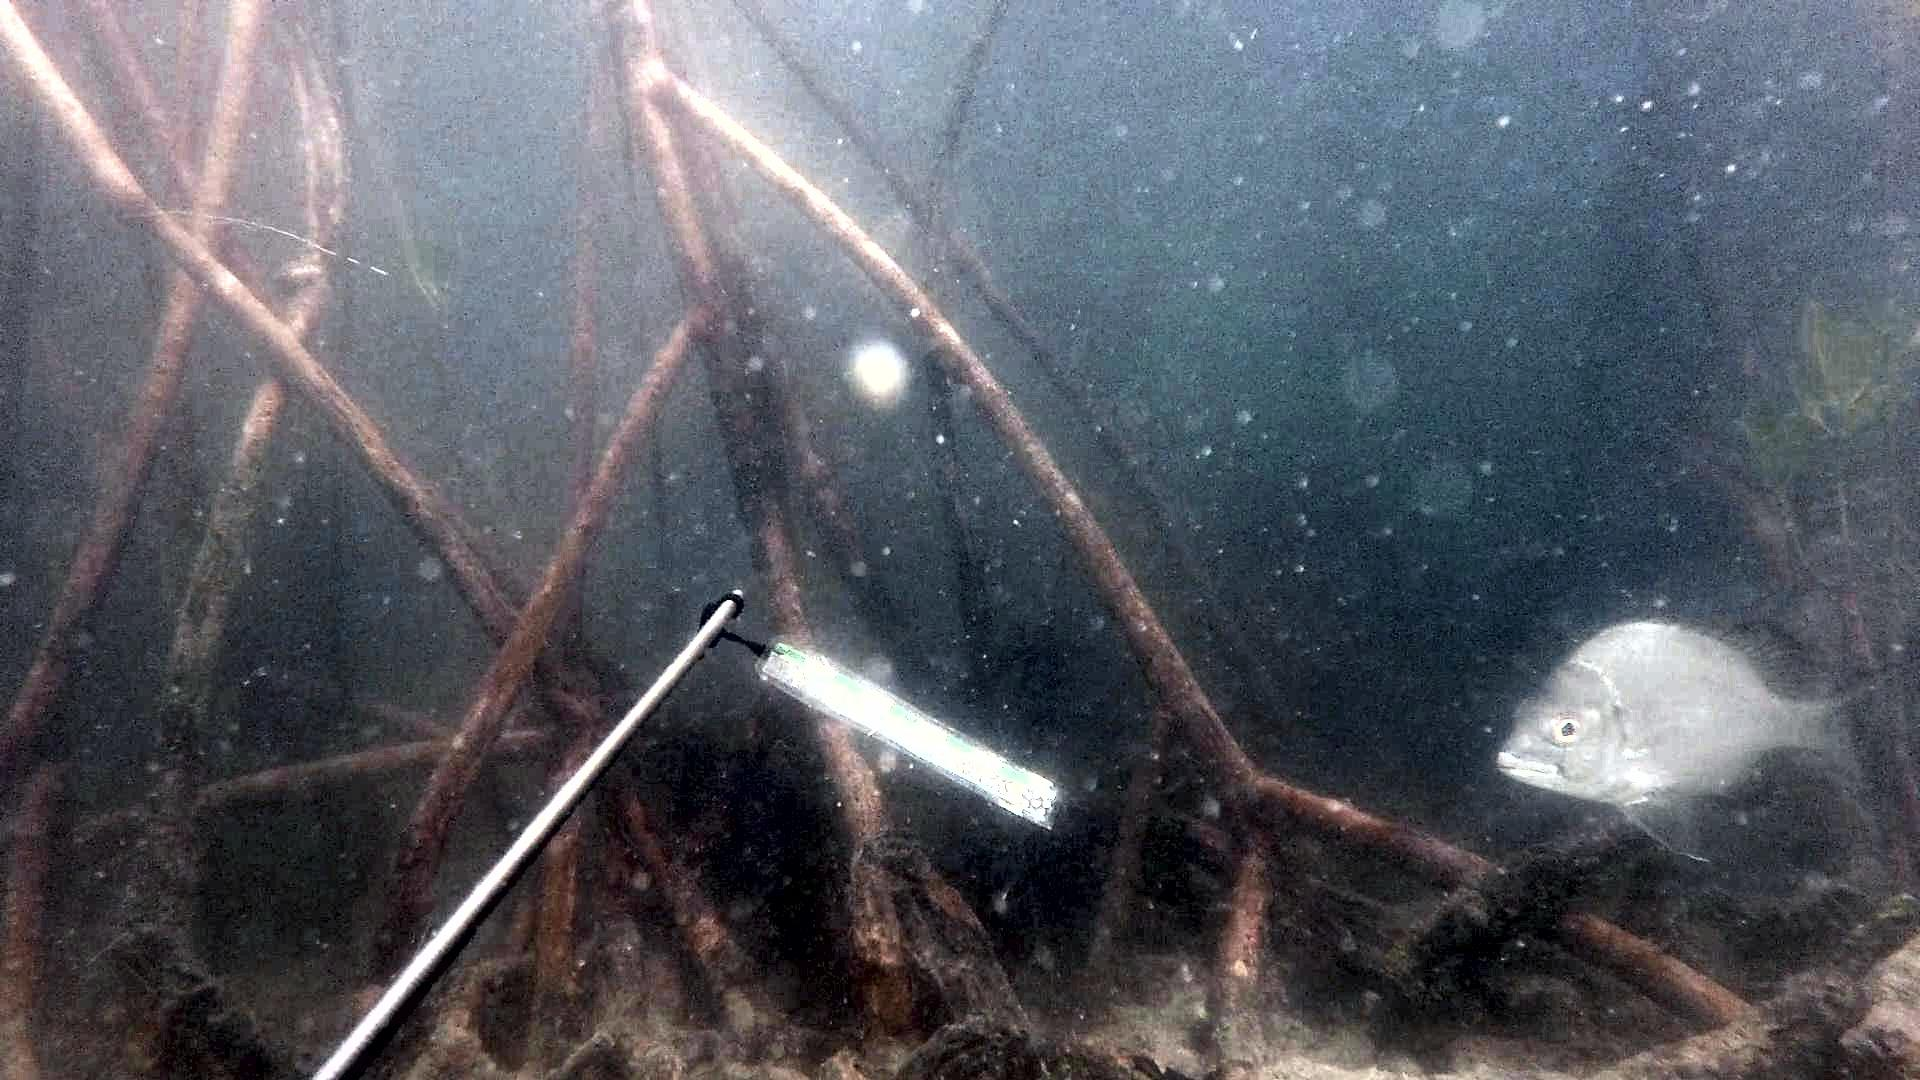acanthopagrus palmaris: (1487, 609, 1920, 878)
